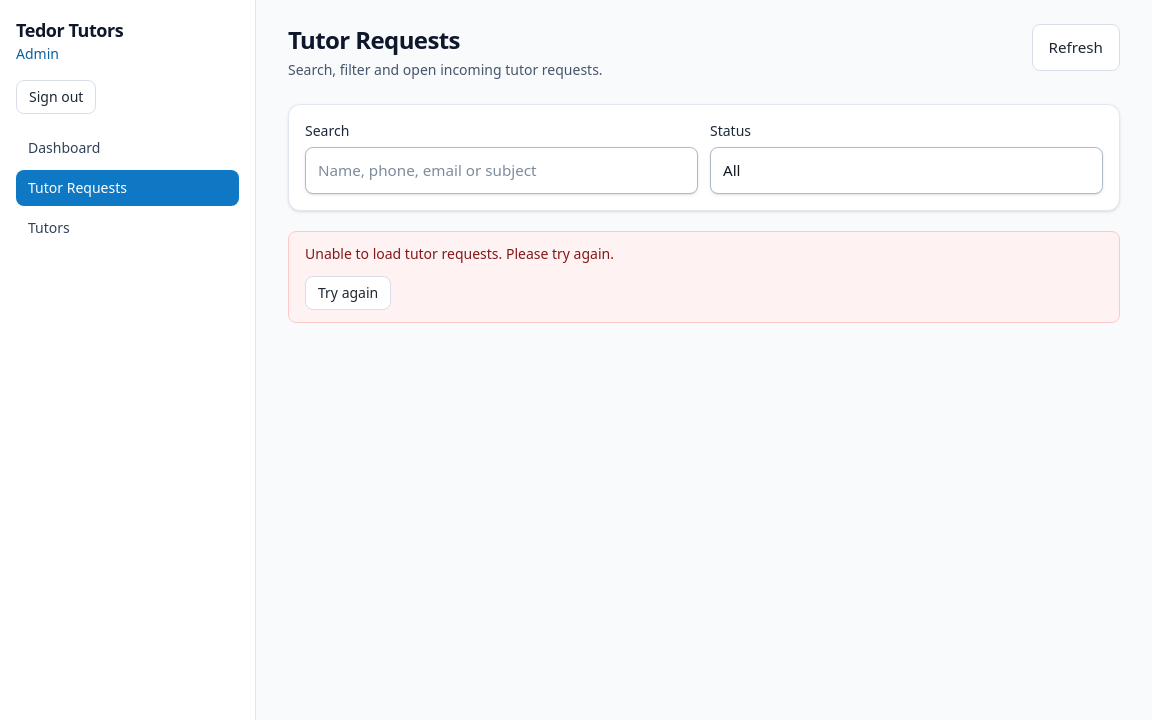
Test case: AdminRequestsPage › shows the error state and can retry
The image size is (1152, 720).
Check: the text "Unable to load tutor requests. Please try again." is shown, box [305, 244, 614, 263]
Step 1. Click the button "Try again" → click(348, 293), box [305, 276, 391, 310]
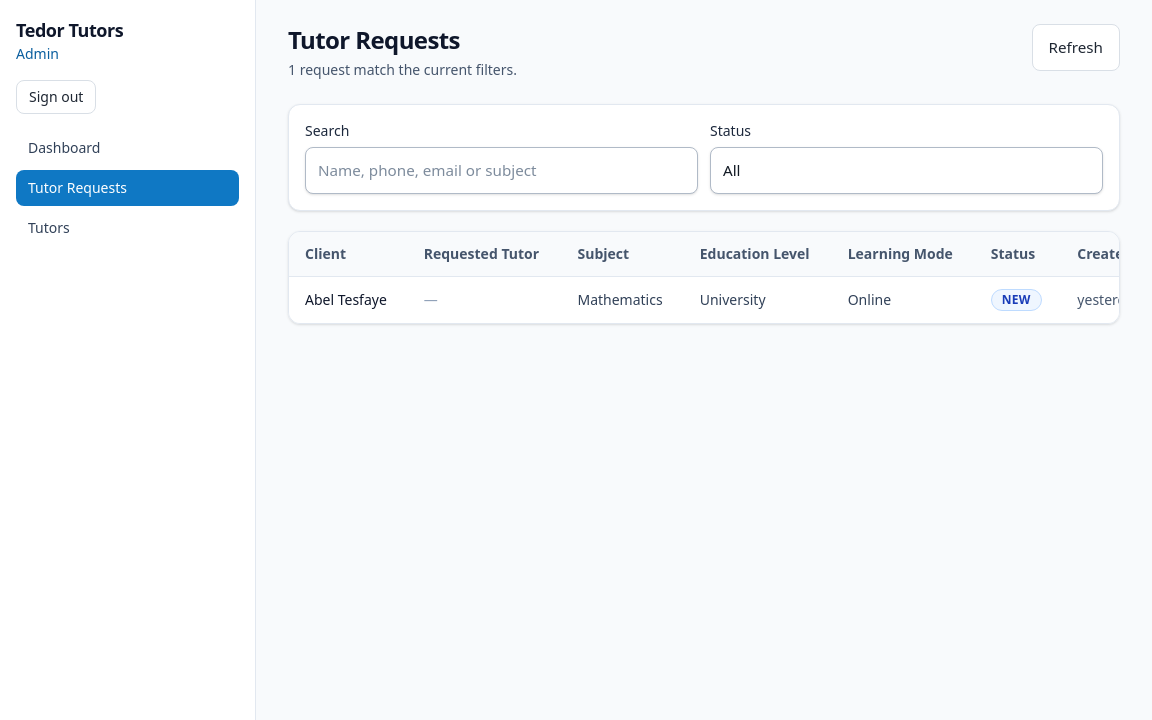
Check: the column heading "Abel Tesfaye" is shown, box [289, 277, 408, 323]
